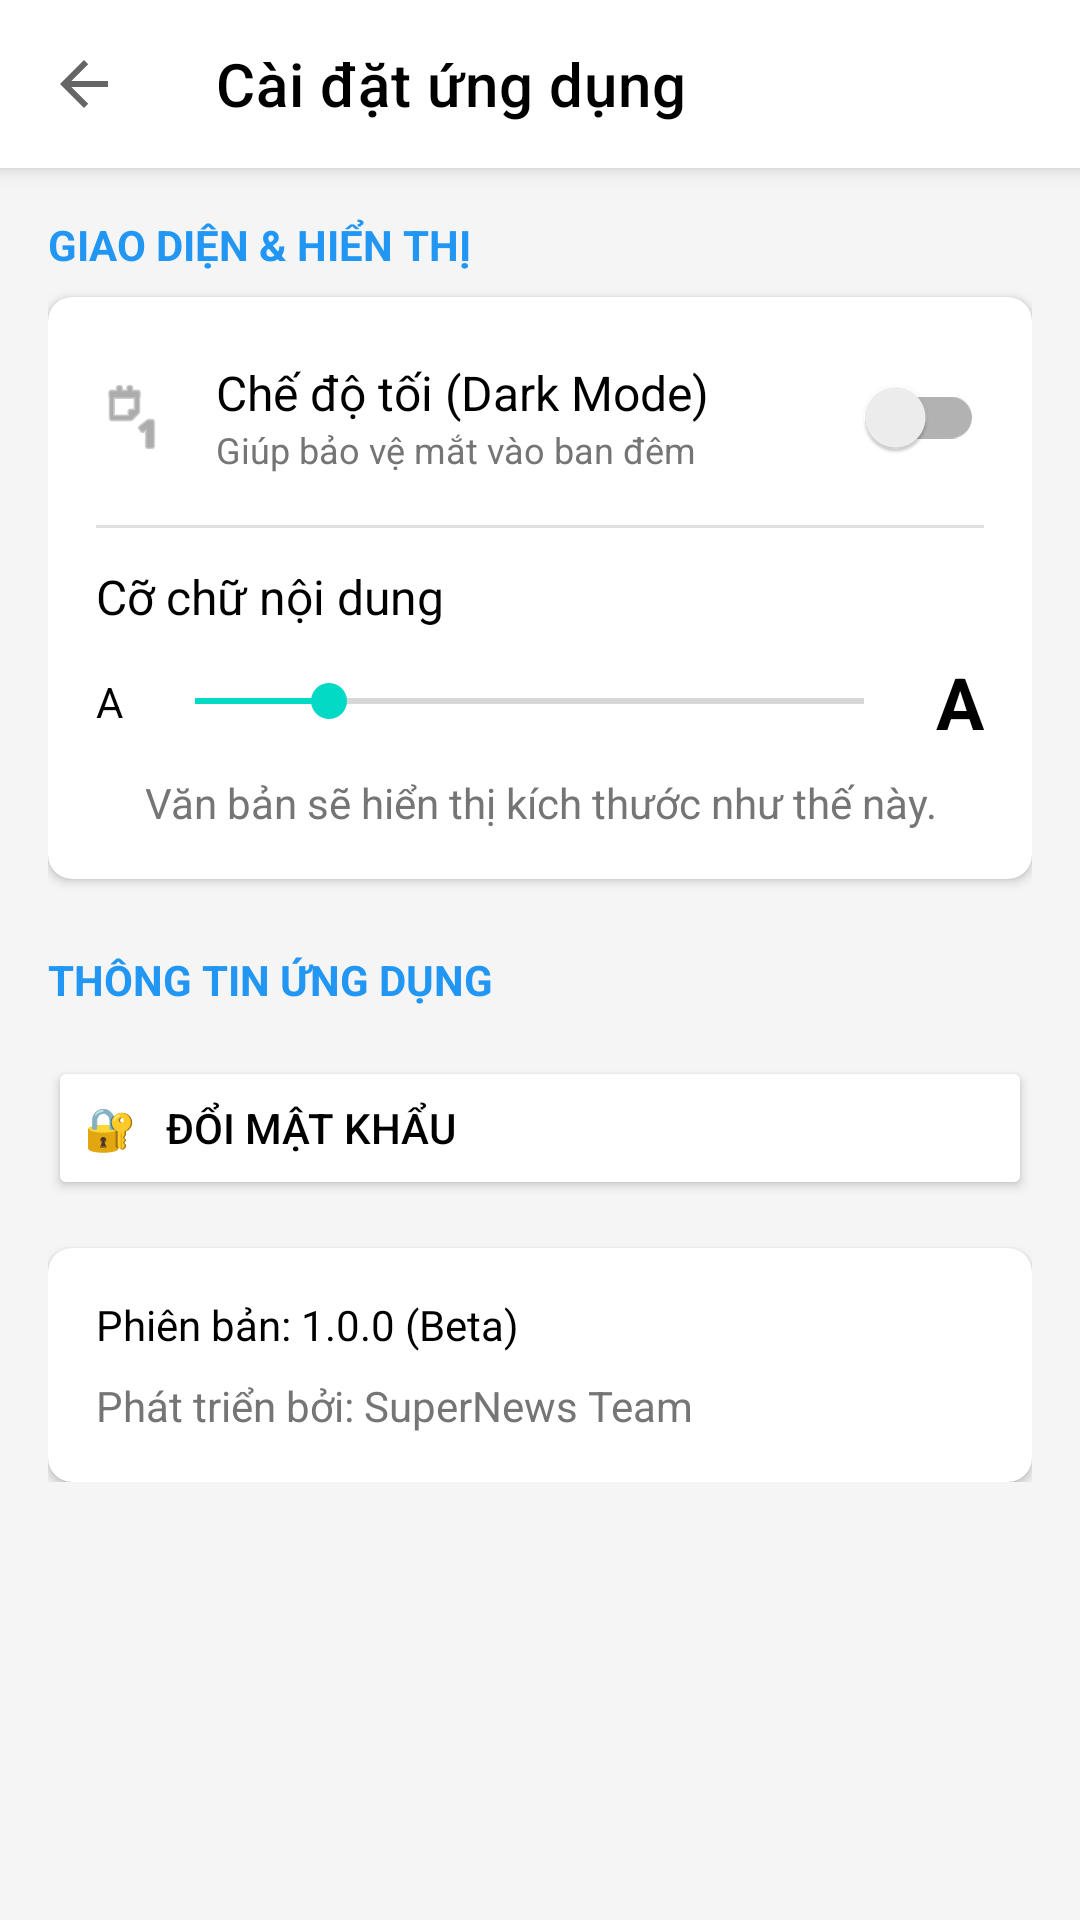

Named icons in this screenshot (1080x1920) and their centers, (x,y):
day: (131,417)
